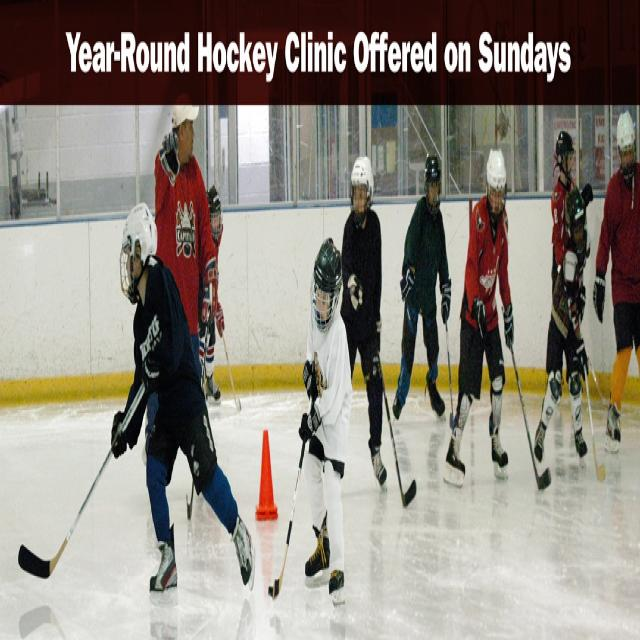body: (104, 198, 256, 600), (441, 142, 516, 492), (298, 232, 354, 610), (152, 102, 219, 390), (530, 181, 593, 474), (391, 146, 453, 428), (590, 108, 640, 457), (339, 152, 388, 490), (197, 181, 226, 404), (550, 128, 576, 303)
